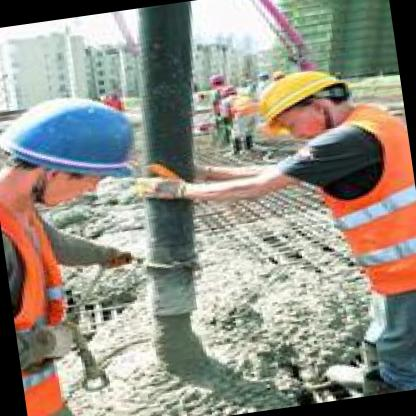helmet: (0, 73, 158, 213), (248, 56, 367, 146)
